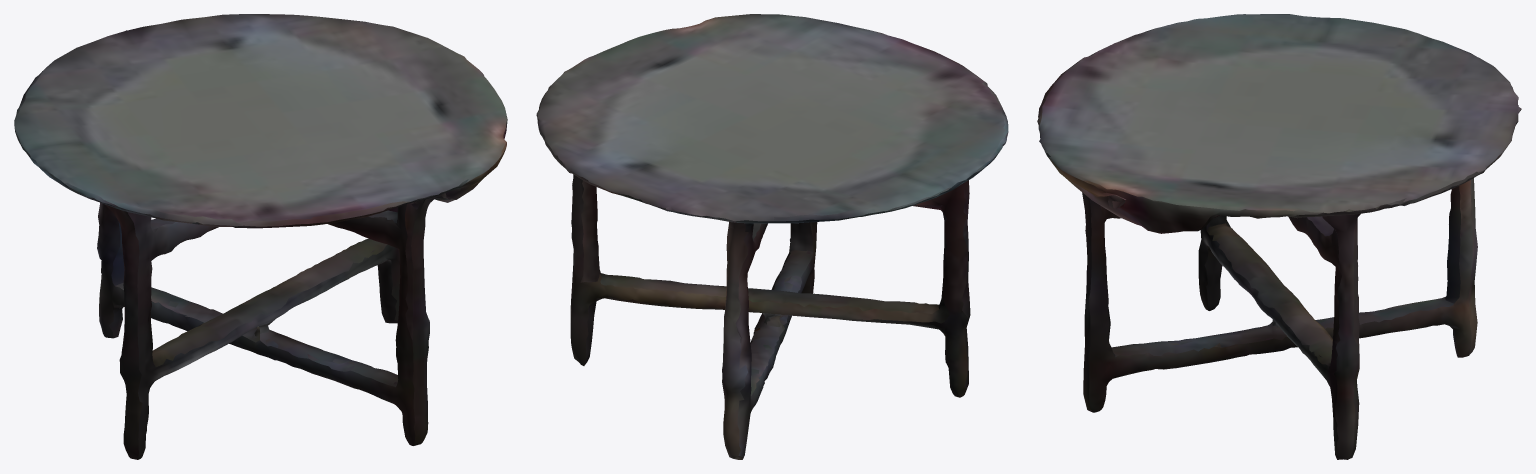
3 renders of one model, left to right at view 1: azimuth 30°, elevation 25°; view 2: azimuth 150°, elevation 25°; view 3: azimuth 270°, elevation 25°, orthographic. The views are drawn at different scales.
Visible parts, largest first — view 1: world; view 2: world; view 3: world.
Part boxes in pixels (x1,y1,x2,y2): world: (14, 14, 507, 459); world: (536, 14, 1008, 459); world: (1037, 14, 1521, 459).
Bounding box in the file's own units: 0.6916 × 0.4388 × 0.6937.
Materials: 1 (1 with a texture image).
